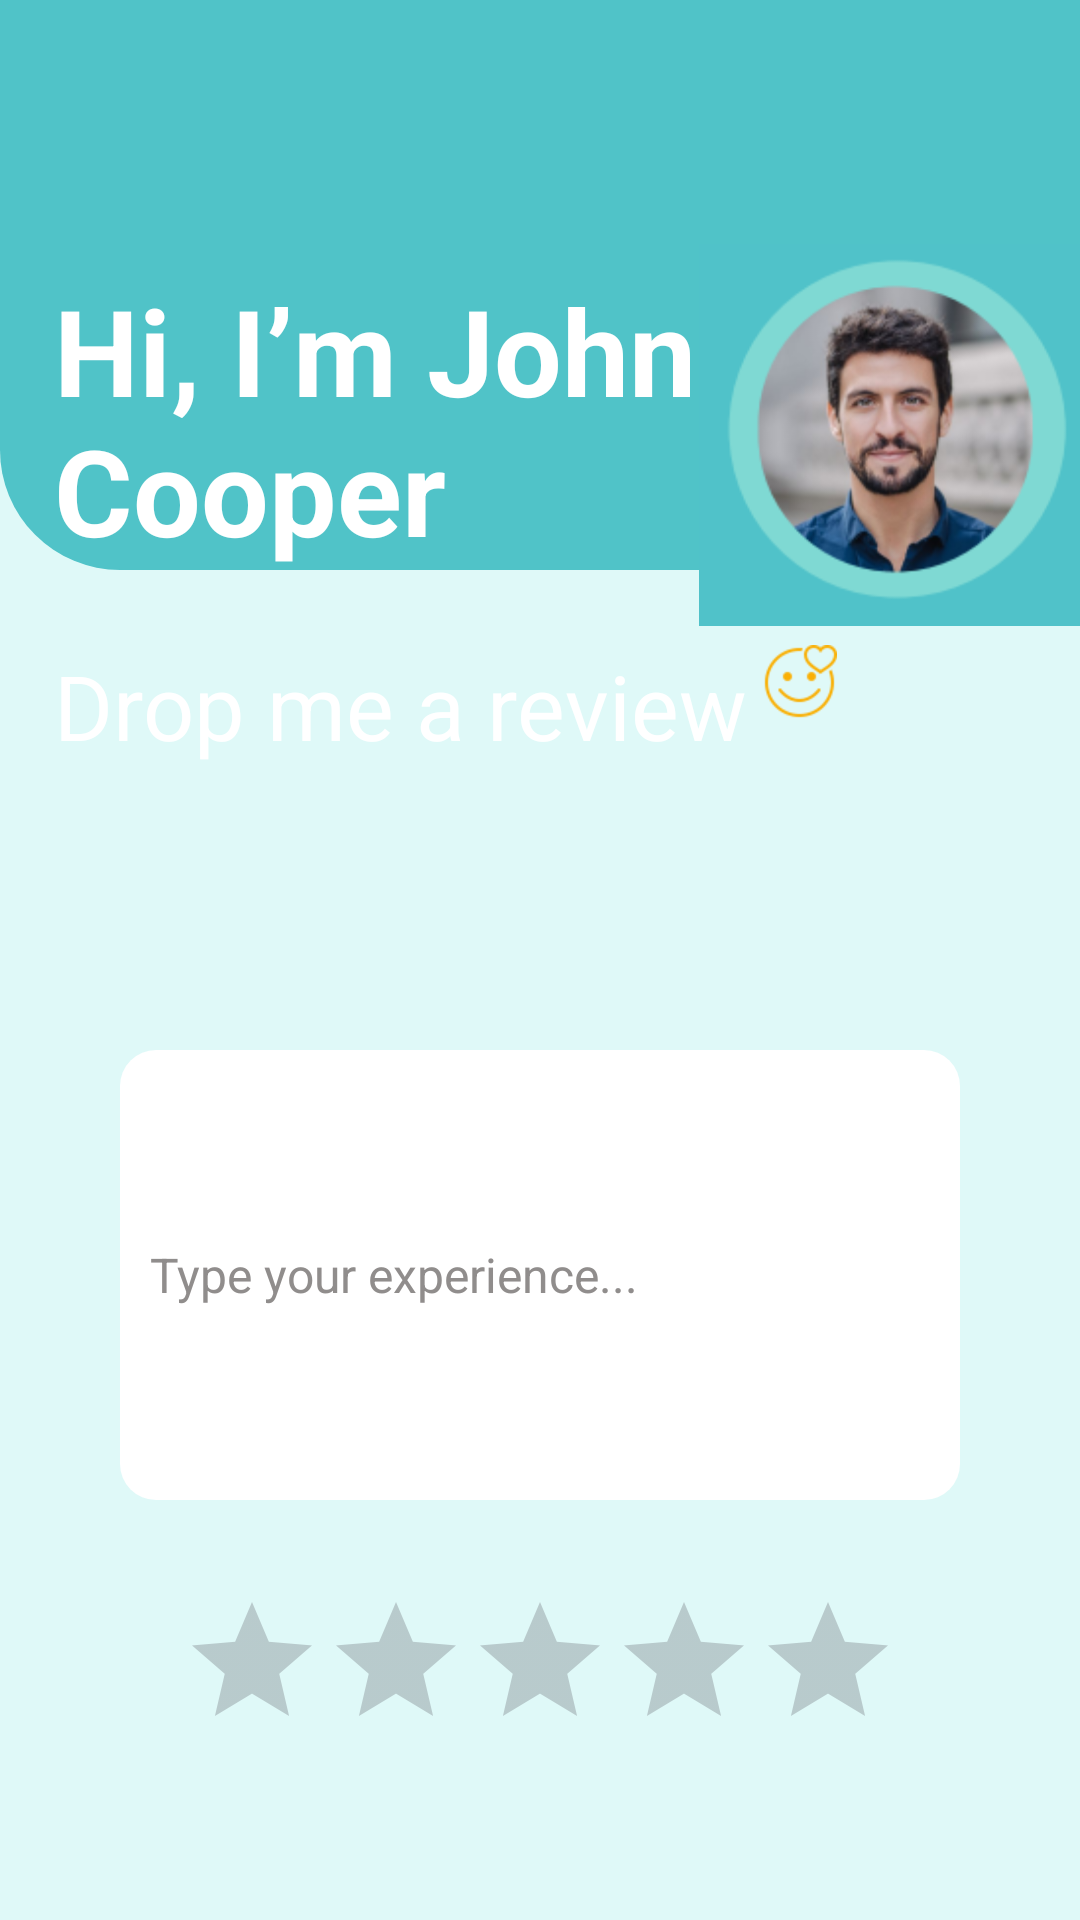

Icon click points for this 1080*1920 phone screenshot, format point (x, y):
cooperpfp: point (897, 429)
smile: point (800, 681)
